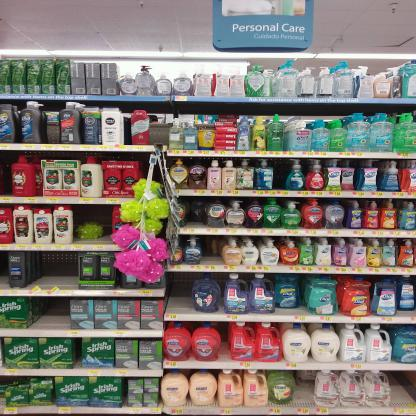Void: (32, 254, 74, 279), (35, 299, 62, 325), (76, 206, 108, 226), (390, 374, 412, 403), (173, 277, 187, 308)
